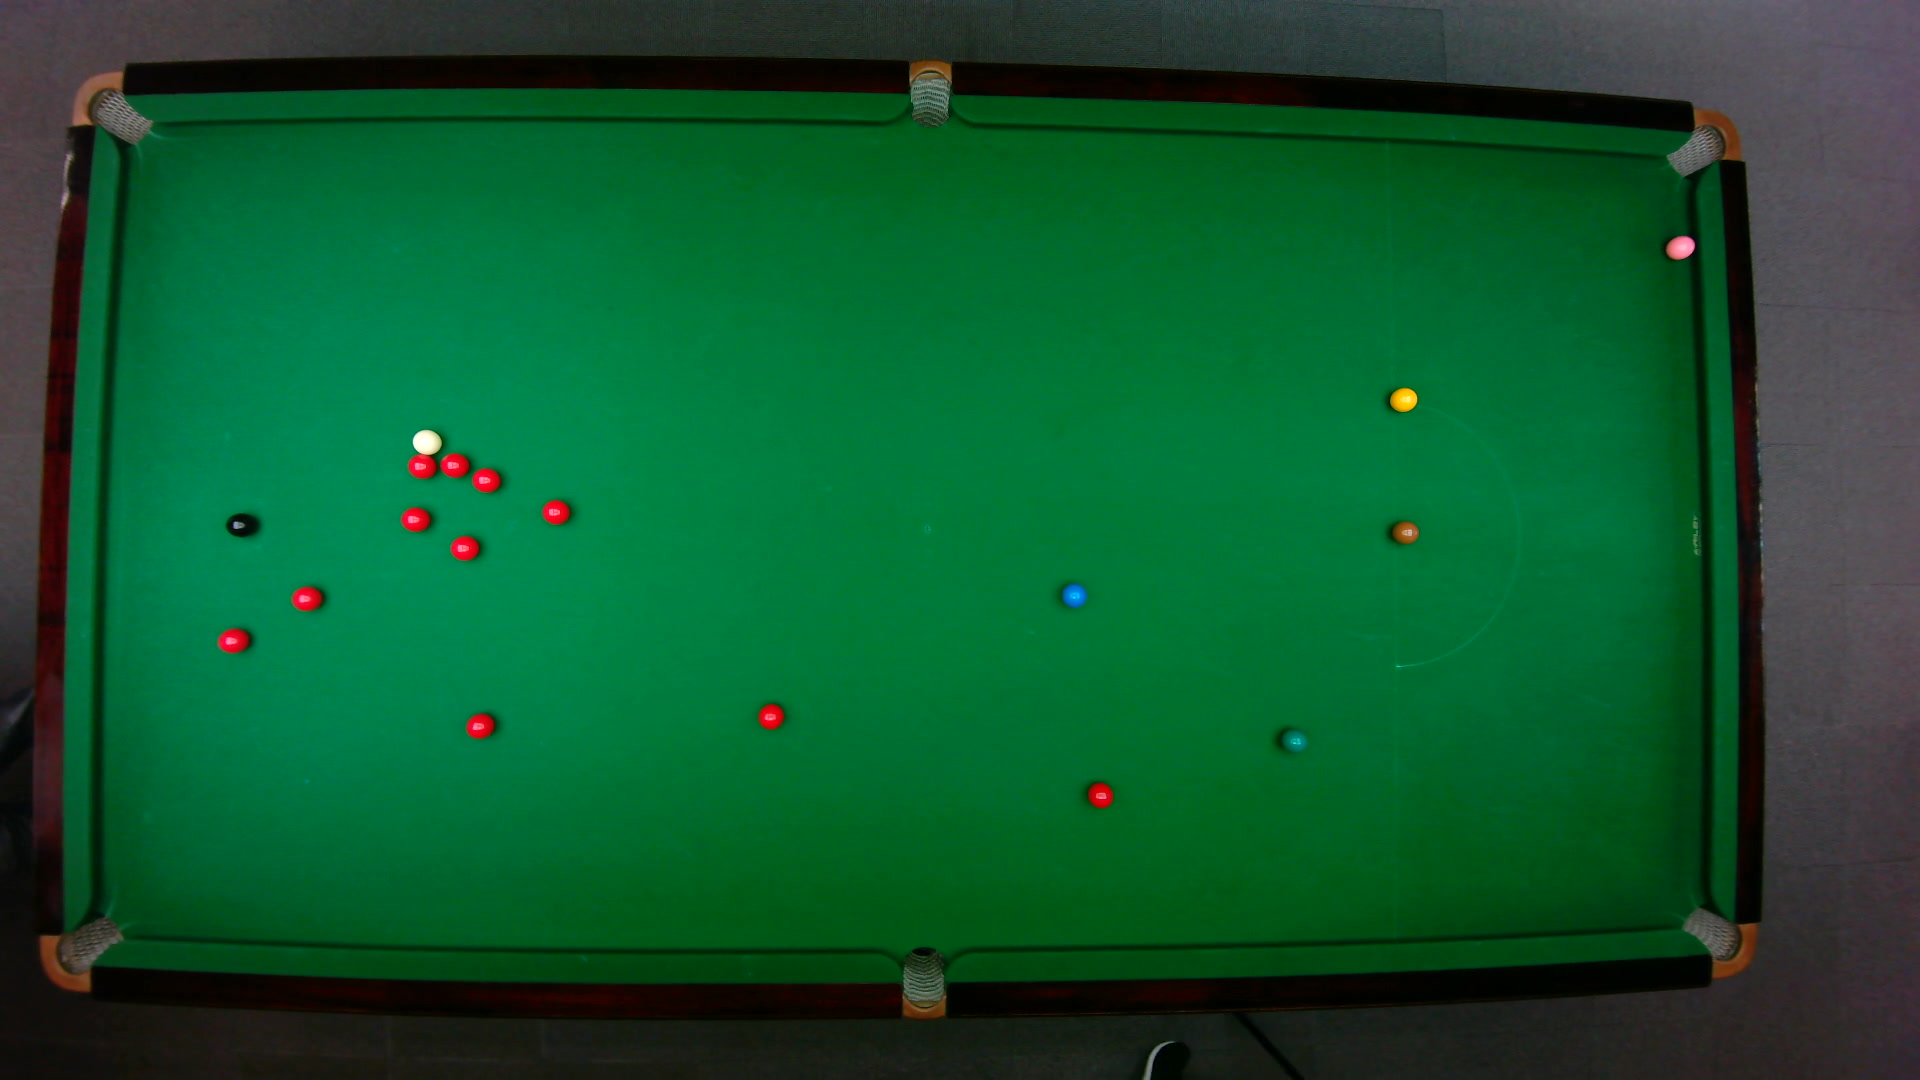bag: (37, 913, 125, 993), (69, 69, 152, 145), (1677, 905, 1756, 978), (1663, 107, 1741, 178), (901, 944, 944, 1021), (909, 57, 949, 128)
black: (224, 512, 257, 537)
blue: (1059, 582, 1087, 608)
brown: (1390, 520, 1419, 545)
green: (1278, 727, 1308, 752)
pink: (1663, 232, 1697, 260)
red: (215, 625, 251, 653), (463, 711, 495, 738), (448, 533, 480, 560), (438, 450, 469, 477), (756, 702, 785, 731), (1084, 781, 1114, 808), (290, 584, 322, 611), (398, 505, 430, 531), (469, 465, 501, 492), (541, 497, 570, 525), (405, 454, 436, 477)
white: (409, 427, 442, 455)
yellow: (1387, 385, 1418, 411)
zone: (1390, 401, 1520, 666)
